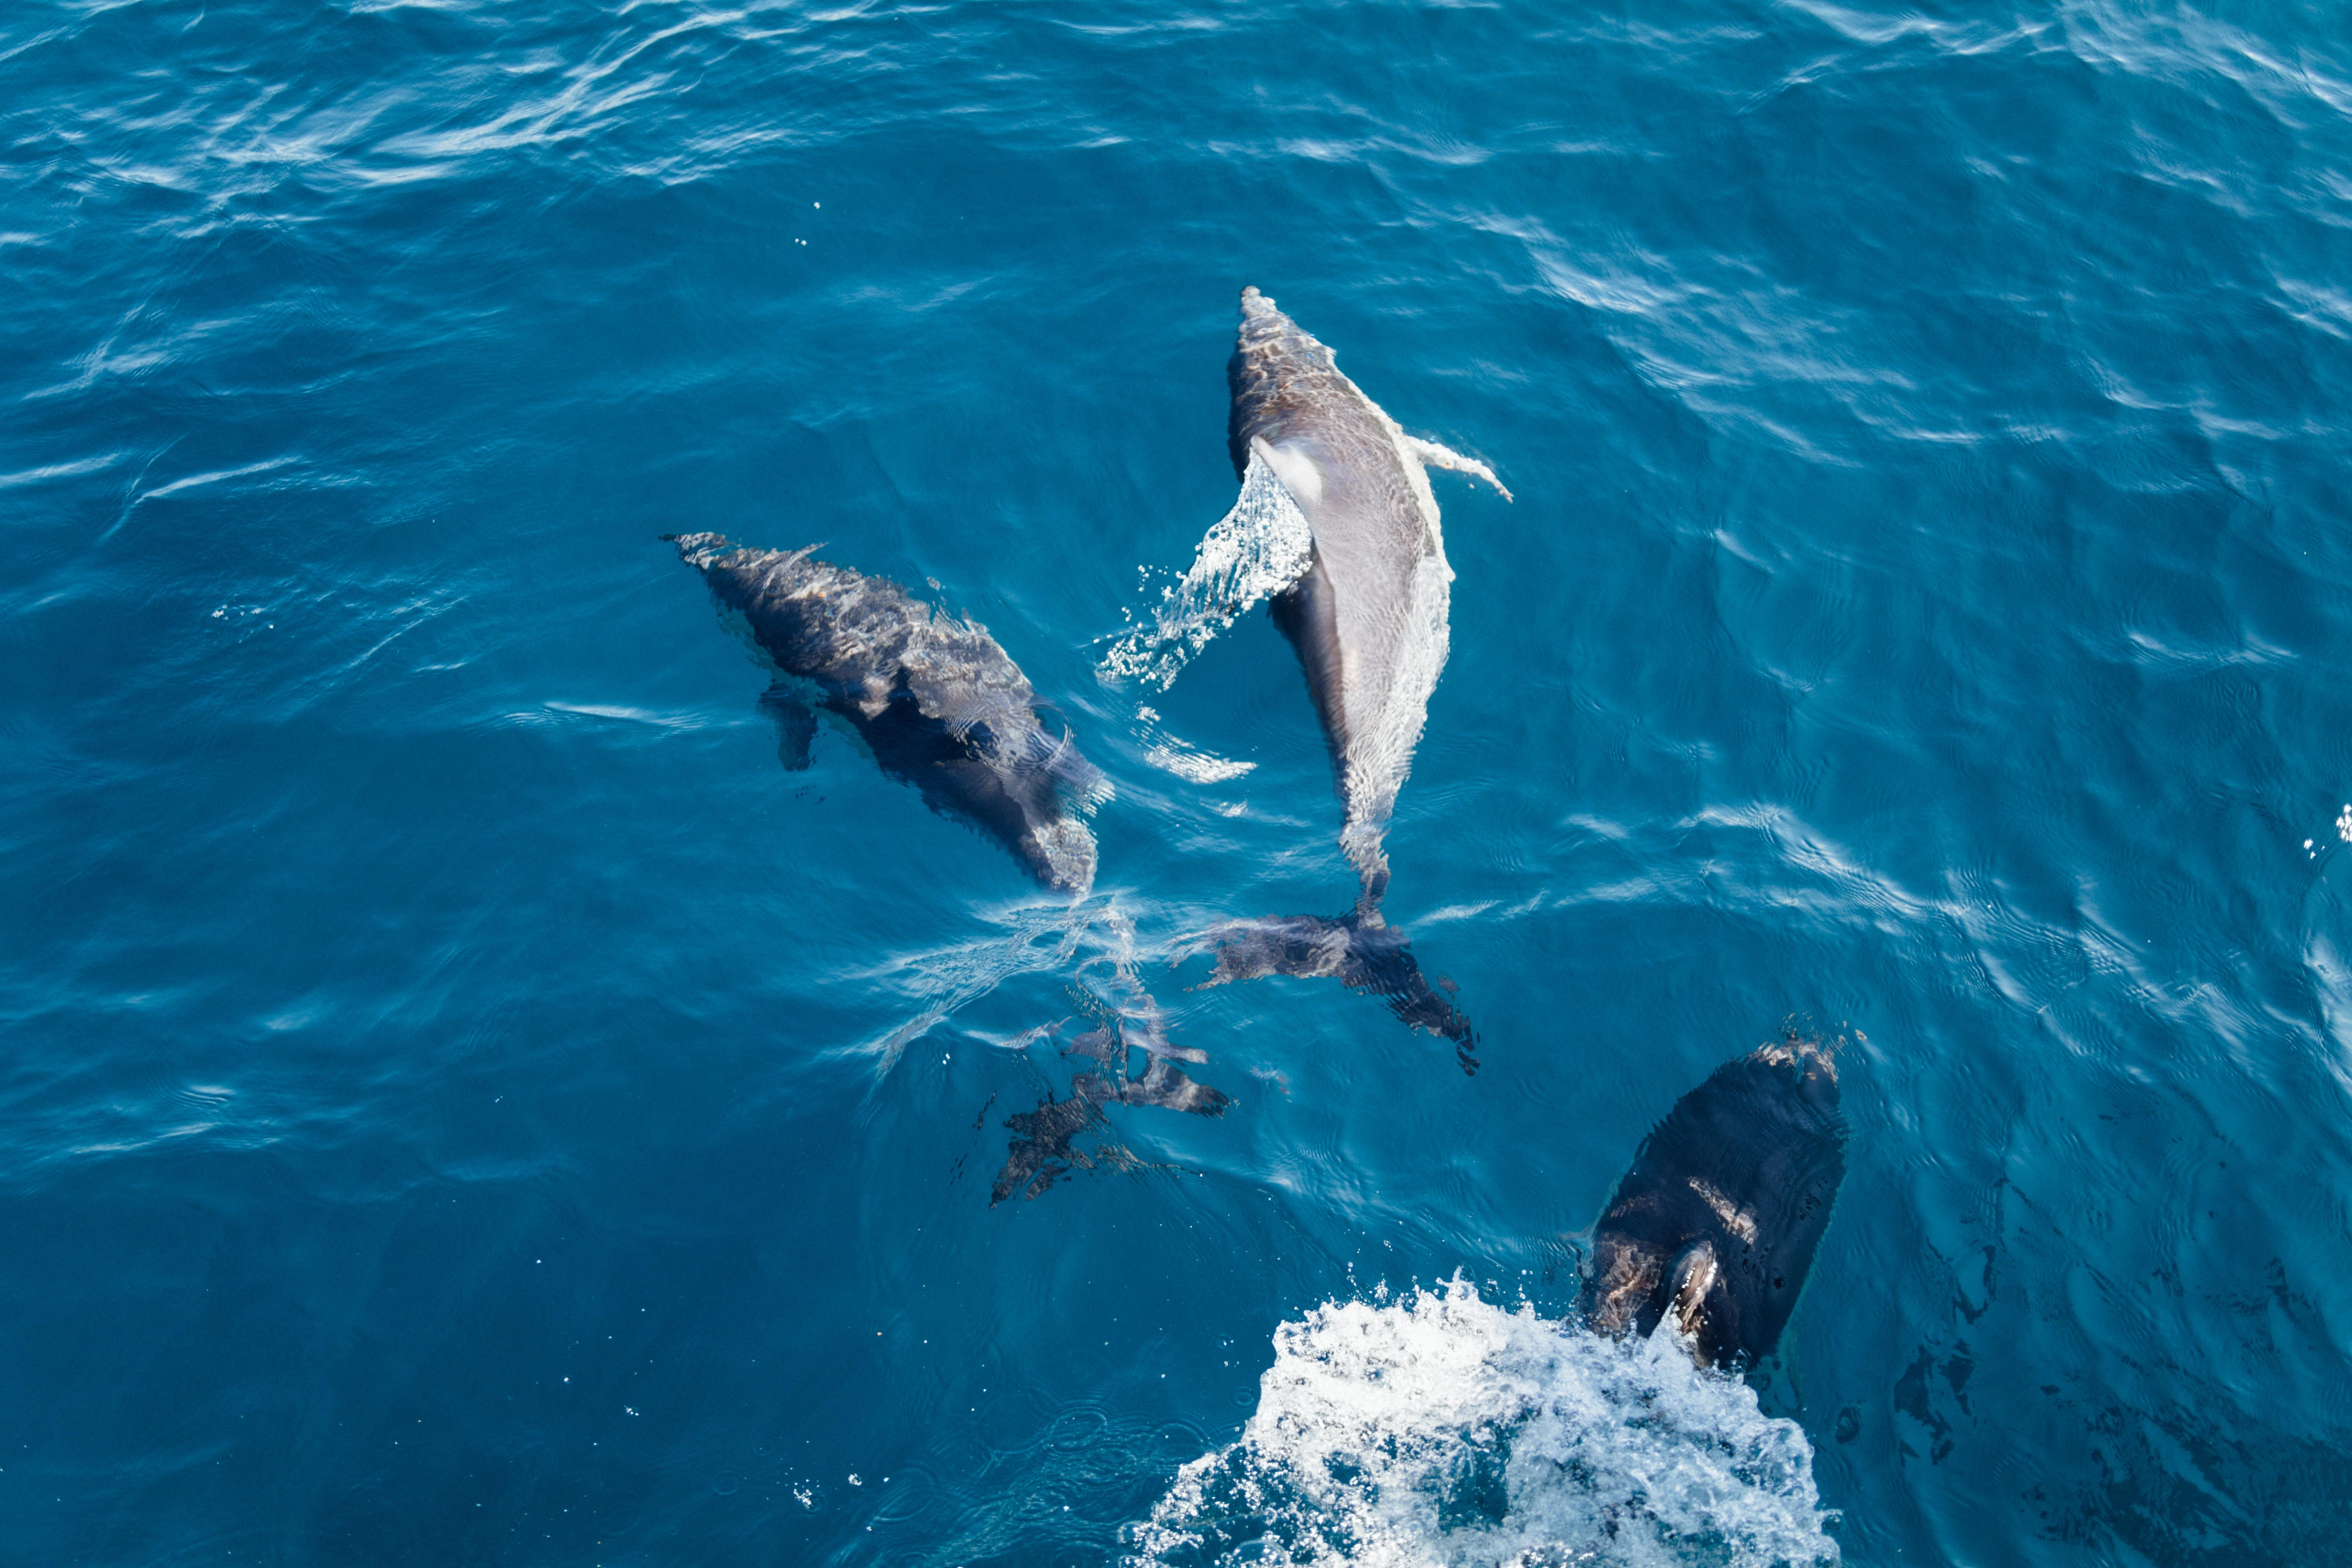fish: (679, 521, 1255, 1192), (1087, 284, 1538, 1062)
